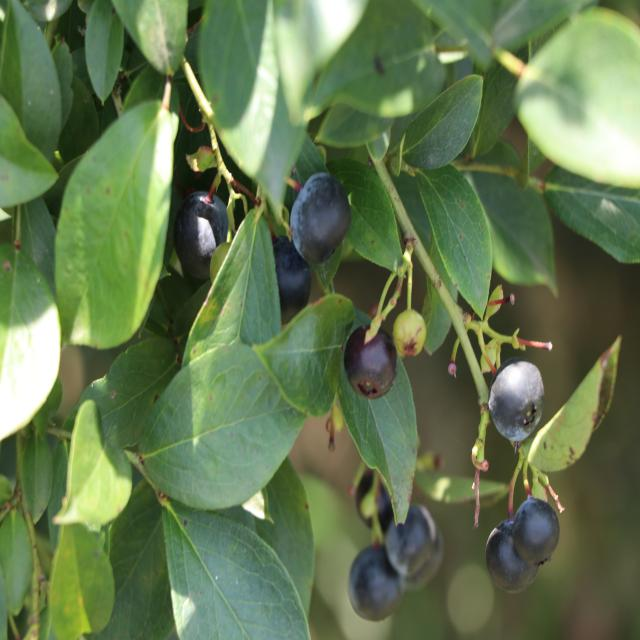blueberry: (288, 170, 346, 262), (172, 190, 229, 280), (340, 319, 402, 401), (260, 230, 312, 321), (489, 359, 542, 441), (348, 538, 402, 618), (483, 520, 539, 594), (511, 496, 561, 564), (387, 502, 435, 572), (355, 468, 396, 531)
blueberry-unripe: (391, 305, 432, 363)
